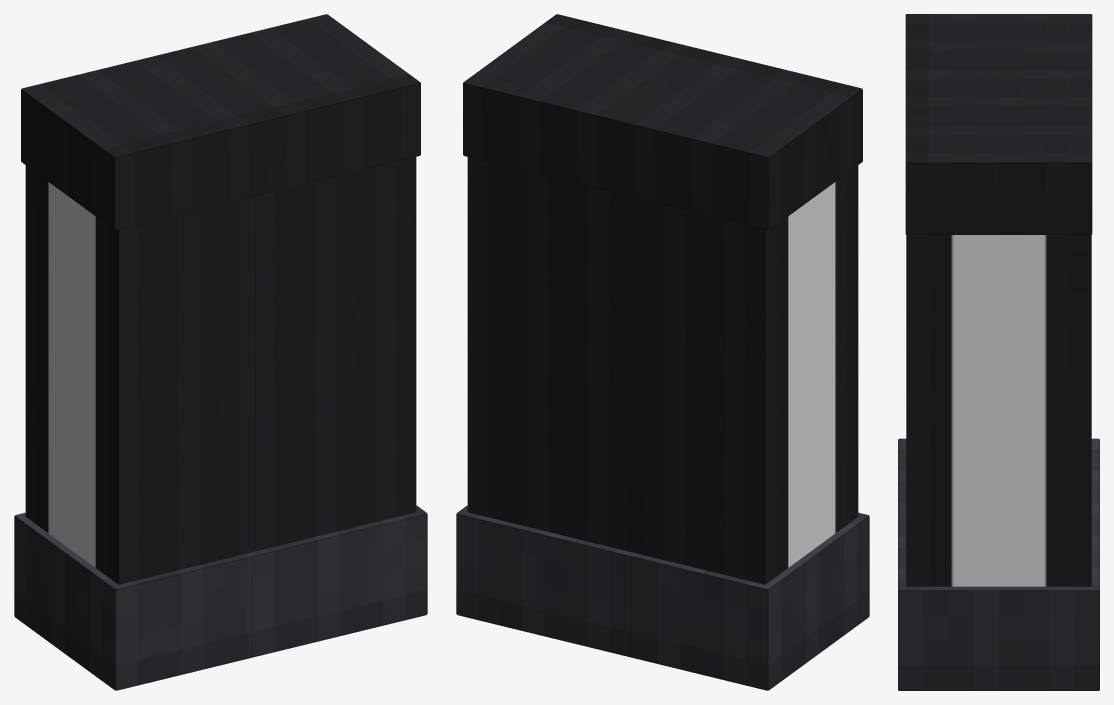
File: tuta.obj
3 views of the same model, side by side, from view 1: azimuth 30°, elevation 25°; view 2: azimuth 150°, elevation 25°; view 3: azimuth 270°, elevation 25° (orthographic).
Parts seen in each view (by area): view 1: tuta_left_leg, tuta_right_leg, tuta_body; view 2: tuta_left_leg, tuta_right_leg, tuta_body; view 3: tuta_right_leg, tuta_body, tuta_left_leg.
Boxes of the visible parts, bbox=[...] form: tuta_left_leg: bbox=[14, 157, 290, 690]; tuta_right_leg: bbox=[252, 157, 427, 657]; tuta_body: bbox=[21, 14, 420, 229]; tuta_left_leg: bbox=[593, 157, 869, 690]; tuta_right_leg: bbox=[456, 157, 631, 657]; tuta_body: bbox=[463, 14, 862, 229]; tuta_right_leg: bbox=[898, 235, 1099, 690]; tuta_body: bbox=[905, 14, 1092, 234]; tuta_left_leg: bbox=[898, 438, 1099, 591].
Bounding box in the file's own units: 0.5437 × 0.8825 × 0.3063.
1 material, 1 textured.
